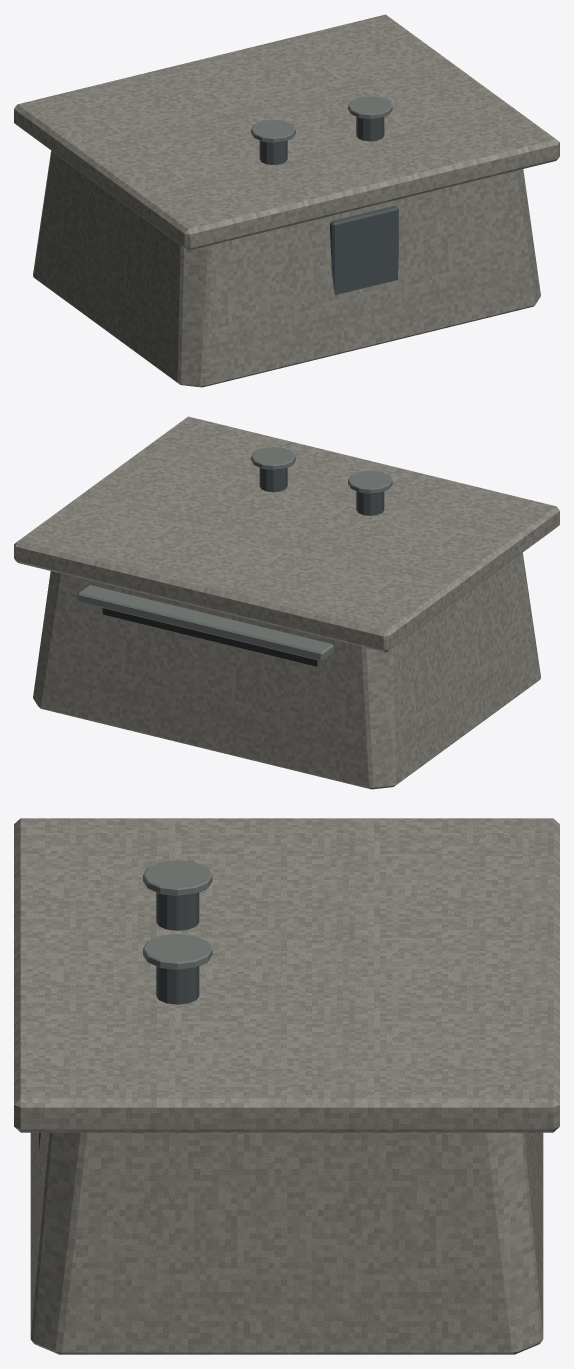
3 renders of one model, top to bottom at view 1: azimuth 30°, elevation 25°; view 2: azimuth 150°, elevation 25°; view 3: azimuth 270°, elevation 25°, orthographic. The views are drawn at different scales.
Visible parts, largest first — view 1: ST2-B01_Mesh; view 2: ST2-B01_Mesh; view 3: ST2-B01_Mesh.
Part boxes in pixels (box(x1,y1,x2,y2)): ST2-B01_Mesh: box(14, 14, 559, 387); ST2-B01_Mesh: box(14, 416, 559, 789); ST2-B01_Mesh: box(14, 818, 559, 1354).
Bounding box in the file's own units: 6.2 × 3.1 × 5.
